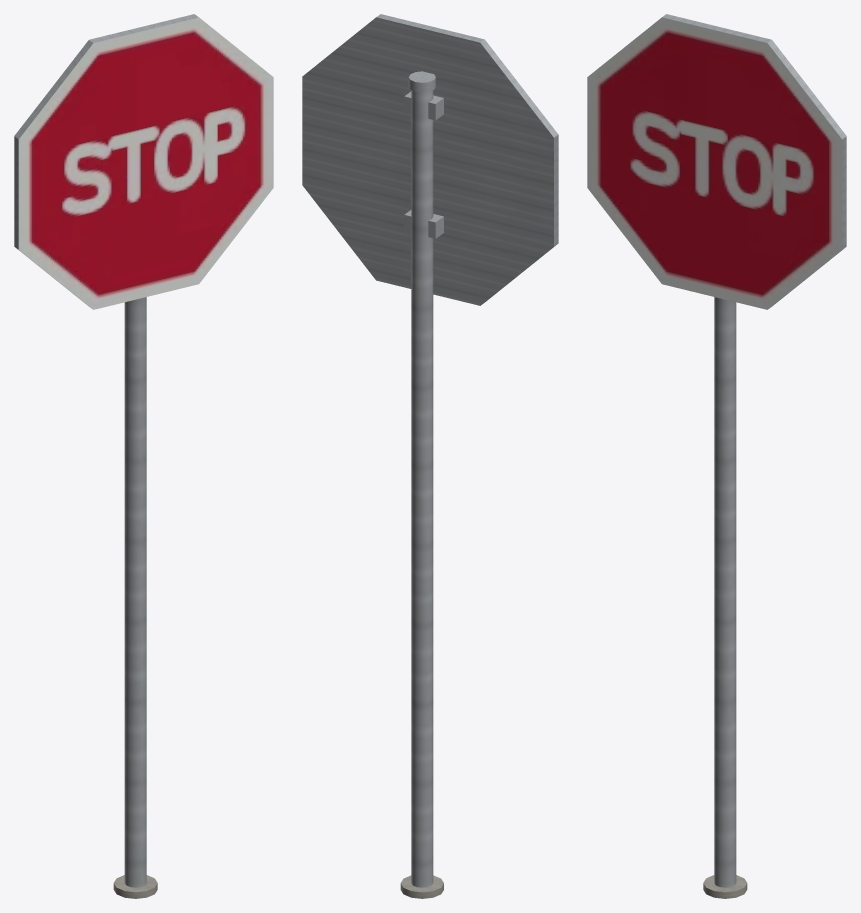
File: panneau_stop_lod0.glb
3 views of the same model, side by side, from view 1: azimuth 30°, elevation 25°; view 2: azimuth 150°, elevation 25°; view 3: azimuth 330°, elevation 25° (orthographic).
Visible parts, largest first — view 1: panneau_stop; view 2: panneau_stop; view 3: panneau_stop.
Boxes of the visible parts, x1,y1,x2,y2 form: panneau_stop: (14,14,273,898); panneau_stop: (302,14,558,898); panneau_stop: (587,14,846,898).
Bounding box in the file's own units: 0.7999 × 2.6 × 0.12.
Materials: 1 (1 with a texture image).
